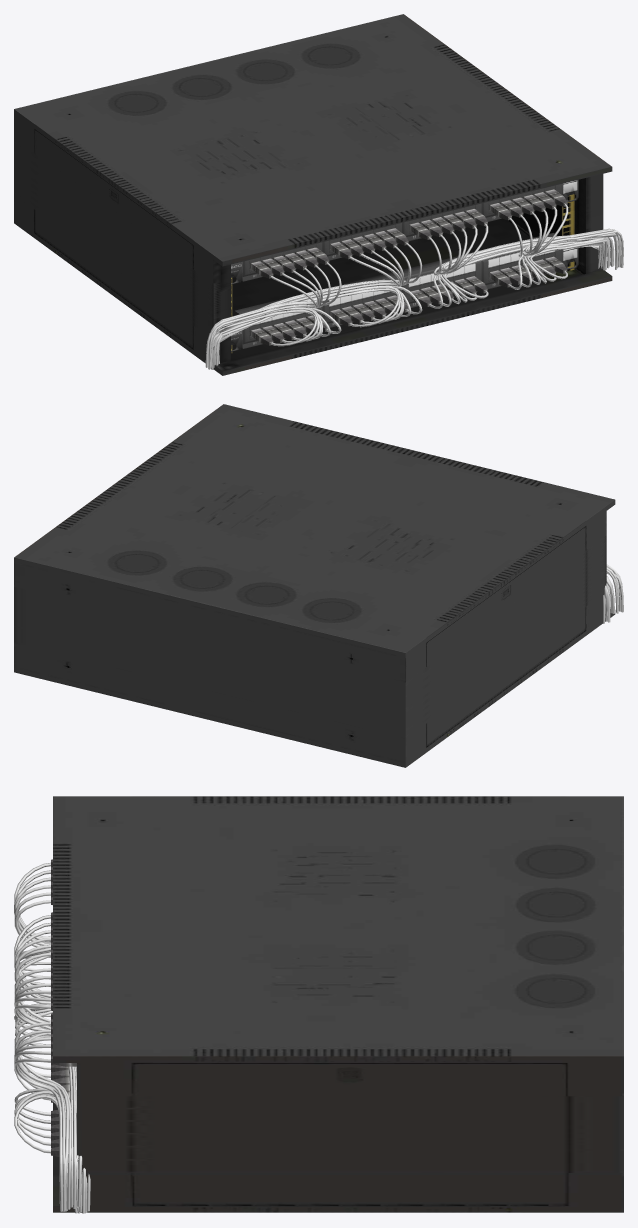
Rendered from lineDevice.glb.
3 views of the same model, one above another, from view 1: azimuth 30°, elevation 25°; view 2: azimuth 150°, elevation 25°; view 3: azimuth 270°, elevation 25° (orthographic). The views are drawn at different scales.
Parts seen in each view (by area): view 1: 配件9, 线, 配件2, 配件3, 配件7; view 2: 配件9, 线; view 3: 配件9, 线, 配件2.
Part boxes in pixels (x1=…): 配件9: x1=14, y1=14, x2=612, y2=375; 线: x1=205, y1=204, x2=623, y2=369; 配件2: x1=250, y1=189, x2=567, y2=345; 配件3: x1=231, y1=180, x2=578, y2=351; 配件7: x1=231, y1=194, x2=574, y2=353; 配件9: x1=14, y1=404, x2=615, y2=767; 线: x1=603, y1=564, x2=623, y2=623; 配件9: x1=53, y1=796, x2=623, y2=1212; 线: x1=14, y1=862, x2=90, y2=1213; 配件2: x1=51, y1=859, x2=76, y2=1156.
Bounding box in the file's own units: 0.5613 × 0.1496 × 0.5197.
Materials: 5 (4 with a texture image).
